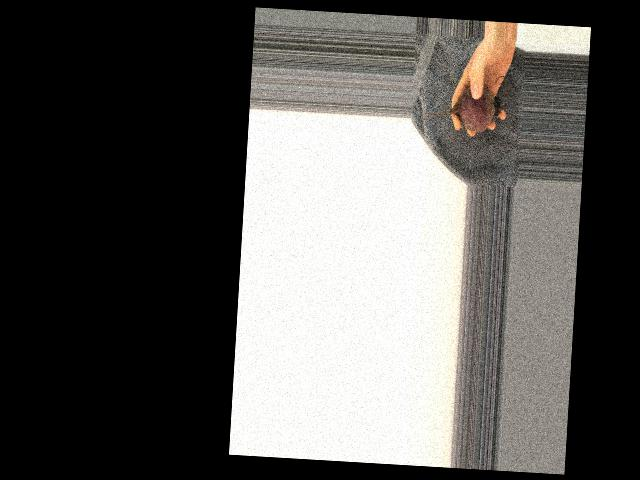beet: (420, 81, 501, 134)
